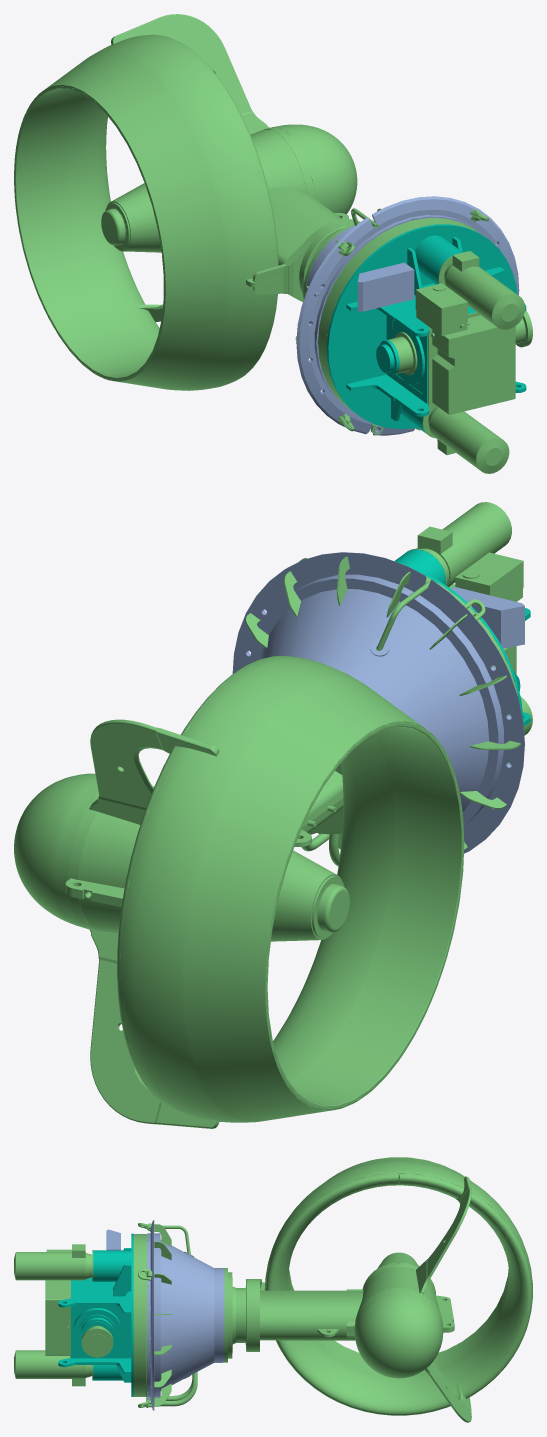
File: thrust.glb
3 views of the same model, one above another, from view 1: azimuth 30°, elevation 25°; view 2: azimuth 150°, elevation 25°; view 3: azimuth 270°, elevation 25° (orthographic). The views are drawn at different scales.
Visible parts, largest first — view 1: RRM000348375_A-NOT CATEGORIZED_Detail_61772, RRM000348375_A-NOT CATEGORIZED_Detail_60848, RRM000483195_A-NOT CATEGORIZED_Detail_50488, RRM000348086_A-Thruster Intermediate Module_Detail_205S P20  (×3), RRM000348375_A-NOT CATEGORIZED_Detail_58409, RRM000483195_A-NOT CATEGORIZED_Detail_51930, RRM000348375_A-NOT CATEGORIZED_Detail_8839, RRM000483195_A-NOT CATEGORIZED_Detail_50700, RRM000483195_A-NOT CATEGORIZED_Detail_50170, RRM000348375_A-NOT CATEGORIZED_Detail_19780, RRM000483195_A-NOT CATEGORIZED_Detail_48818, RRM000483195_A-NOT CATEGORIZED_Detail_51337 (+6 smaller); view 2: RRM000348375_A-NOT CATEGORIZED_Detail_61772, RRM000348375_A-NOT CATEGORIZED_Detail_60848, RRM000348086_A-Thruster Intermediate Module_Detail_205S P20 , RRM000348375_A-NOT CATEGORIZED_Detail_58409, RRM000348375_A-NOT CATEGORIZED_Detail_8839, RRM000348375_A-NOT CATEGORIZED_Detail_19780, RRM000483195_A-NOT CATEGORIZED_Detail_50700, RRM000483195_A-NOT CATEGORIZED_Detail_51337, RRM000483195_A-NOT CATEGORIZED_Detail_48818, RRM000348375_A-NOT CATEGORIZED_Detail_61051, RRM000348375_A-NOT CATEGORIZED_Detail_61143, RRM000483195_A-NOT CATEGORIZED_Detail_50488 (+1 smaller); view 3: RRM000348086_A-Thruster Intermediate Module_Detail_205S P20  (×5), RRM000348375_A-NOT CATEGORIZED_Detail_60848, RRM000348375_A-NOT CATEGORIZED_Detail_58409, RRM000348375_A-NOT CATEGORIZED_Detail_8839, RRM000483195_A-NOT CATEGORIZED_Detail_50488, RRM000348375_A-NOT CATEGORIZED_Detail_61493, RRM000348375_A-NOT CATEGORIZED_Detail_61772, RRM000348375_A-NOT CATEGORIZED_Detail_60884, RRM000483195_A-NOT CATEGORIZED_Detail_50700, RRM000483195_A-NOT CATEGORIZED_Detail_51930, RRM000483195_A-NOT CATEGORIZED_Detail_50170, RRM000483195_A-NOT CATEGORIZED_Detail_50402 (+3 smaller).
Part boxes in pixels (<box>): RRM000348375_A-NOT CATEGORIZED_Detail_61772: <box>14,35,273,390</box>; RRM000348375_A-NOT CATEGORIZED_Detail_60848: <box>14,86,164,380</box>; RRM000483195_A-NOT CATEGORIZED_Detail_50488: <box>326,224,526,433</box>; RRM000348086_A-Thruster Intermediate Module_Detail_205S P20  (×3): <box>296,196,519,435</box>; RRM000348375_A-NOT CATEGORIZED_Detail_58409: <box>111,14,359,321</box>; RRM000483195_A-NOT CATEGORIZED_Detail_51930: <box>428,312,515,414</box>; RRM000348375_A-NOT CATEGORIZED_Detail_8839: <box>272,124,357,214</box>; RRM000483195_A-NOT CATEGORIZED_Detail_50700: <box>438,251,525,329</box>; RRM000483195_A-NOT CATEGORIZED_Detail_50170: <box>422,405,509,473</box>; RRM000348375_A-NOT CATEGORIZED_Detail_19780: <box>101,183,161,252</box>; RRM000483195_A-NOT CATEGORIZED_Detail_48818: <box>357,262,414,311</box>; RRM000483195_A-NOT CATEGORIZED_Detail_51337: <box>415,283,469,335</box>; RRM000348375_A-NOT CATEGORIZED_Detail_61772: <box>123,656,462,1122</box>; RRM000348375_A-NOT CATEGORIZED_Detail_60848: <box>266,723,463,1108</box>; RRM000348086_A-Thruster Intermediate Module_Detail_205S P20 : <box>232,552,524,853</box>; RRM000348375_A-NOT CATEGORIZED_Detail_58409: <box>65,719,343,1128</box>; RRM000348375_A-NOT CATEGORIZED_Detail_8839: <box>14,773,98,928</box>; RRM000348375_A-NOT CATEGORIZED_Detail_19780: <box>271,850,349,941</box>; RRM000483195_A-NOT CATEGORIZED_Detail_50700: <box>405,502,511,586</box>; RRM000483195_A-NOT CATEGORIZED_Detail_51337: <box>455,552,523,601</box>; RRM000483195_A-NOT CATEGORIZED_Detail_48818: <box>451,587,524,648</box>; RRM000348375_A-NOT CATEGORIZED_Detail_61051: <box>119,656,280,1108</box>; RRM000348375_A-NOT CATEGORIZED_Detail_61143: <box>265,721,464,1110</box>; RRM000483195_A-NOT CATEGORIZED_Detail_50488: <box>394,549,530,726</box>; RRM000348086_A-Thruster Intermediate Module_Detail_205S P20  (×5): <box>133,1220,252,1410</box>; RRM000348375_A-NOT CATEGORIZED_Detail_60848: <box>274,1182,523,1408</box>; RRM000348375_A-NOT CATEGORIZED_Detail_58409: <box>253,1176,471,1422</box>; RRM000348375_A-NOT CATEGORIZED_Detail_8839: <box>354,1290,443,1378</box>; RRM000483195_A-NOT CATEGORIZED_Detail_50488: <box>58,1233,133,1396</box>; RRM000348375_A-NOT CATEGORIZED_Detail_61493: <box>266,1174,531,1415</box>; RRM000348375_A-NOT CATEGORIZED_Detail_61772: <box>264,1157,532,1341</box>; RRM000348375_A-NOT CATEGORIZED_Detail_60884: <box>270,1179,527,1413</box>; RRM000483195_A-NOT CATEGORIZED_Detail_50700: <box>14,1244,93,1281</box>; RRM000483195_A-NOT CATEGORIZED_Detail_51930: <box>45,1280,70,1358</box>; RRM000483195_A-NOT CATEGORIZED_Detail_50170: <box>14,1350,93,1386</box>; RRM000483195_A-NOT CATEGORIZED_Detail_50402: <box>81,1325,113,1357</box>.
Size of the model in its own units: 2.5 by 2.94 by 5.69.
